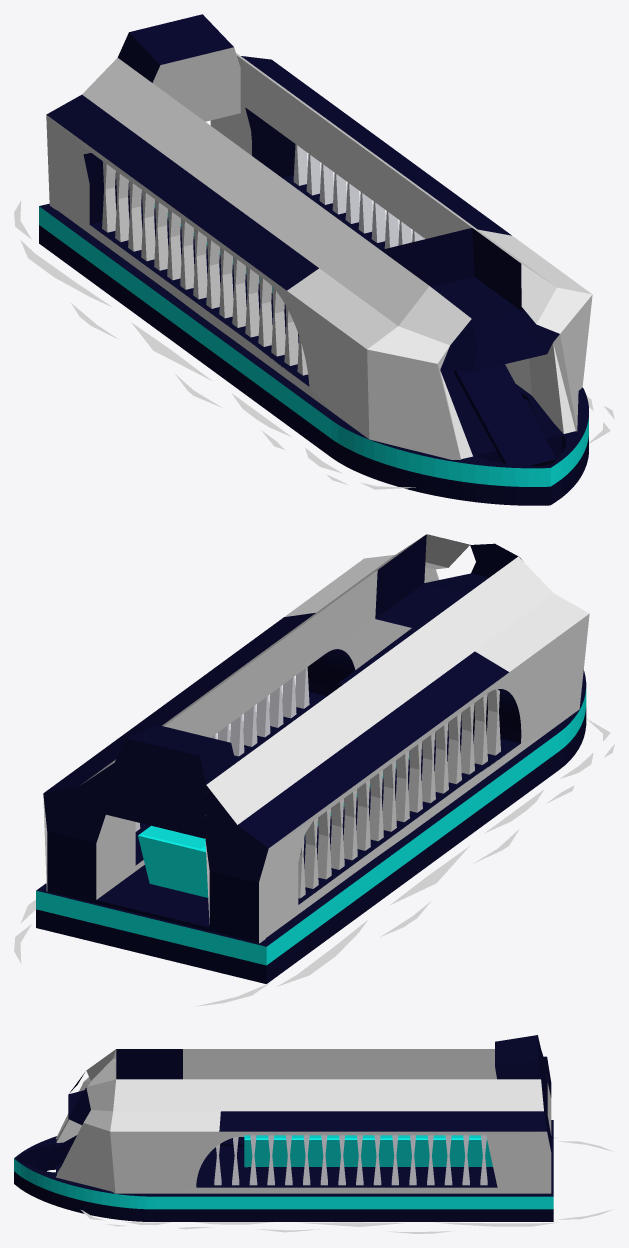
Rendered from interceptor.gltf.
3 renders of one model, top to bottom at view 1: azimuth 30°, elevation 25°; view 2: azimuth 150°, elevation 25°; view 3: azimuth 270°, elevation 25°, orthographic. The views are drawn at different scales.
Parts seen in each view (by area): view 1: Plane, Plane001; view 2: Plane, Plane001; view 3: Plane, Plane002.
Boxes of the visible parts, x1=… form: Plane: x1=39, y1=14, x2=592, y2=505; Plane001: x1=14, y1=200, x2=415, y2=489; Plane: x1=36, y1=534, x2=589, y2=983; Plane001: x1=196, y1=718, x2=614, y2=1006; Plane: x1=14, y1=1035, x2=553, y2=1221; Plane002: x1=81, y1=1209, x2=613, y2=1233.
Size of the model in its own units: 4.11 by 2.41 by 9.62.
